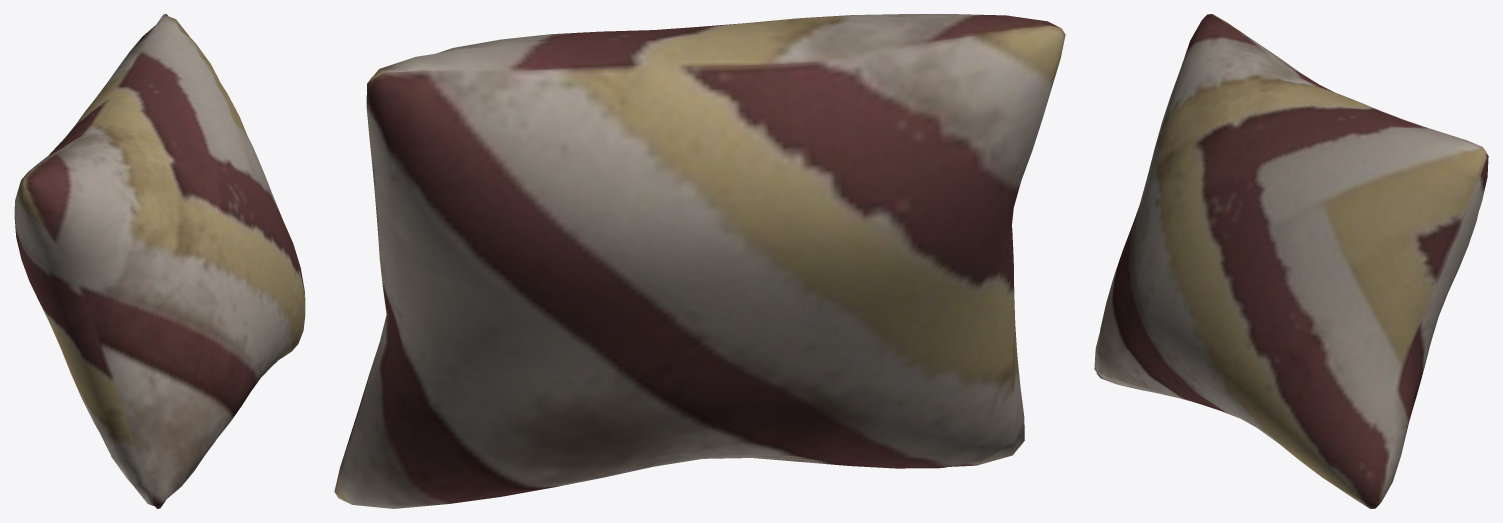
File: smallPillow.fbx
3 renders of one model, left to right at view 1: azimuth 30°, elevation 25°; view 2: azimuth 150°, elevation 25°; view 3: azimuth 270°, elevation 25°, orthographic. The views are drawn at different scales.
Visible parts, largest first — view 1: defaultMaterial.008; view 2: defaultMaterial.008; view 3: defaultMaterial.008.
Part boxes in pixels (x1,y1,x2,y2): defaultMaterial.008: (14, 14, 305, 508); defaultMaterial.008: (334, 14, 1065, 508); defaultMaterial.008: (1094, 14, 1488, 508).
Bounding box in the file's own units: 66.39 × 56.87 × 62.24.
Materials: 1 (1 with a texture image).
